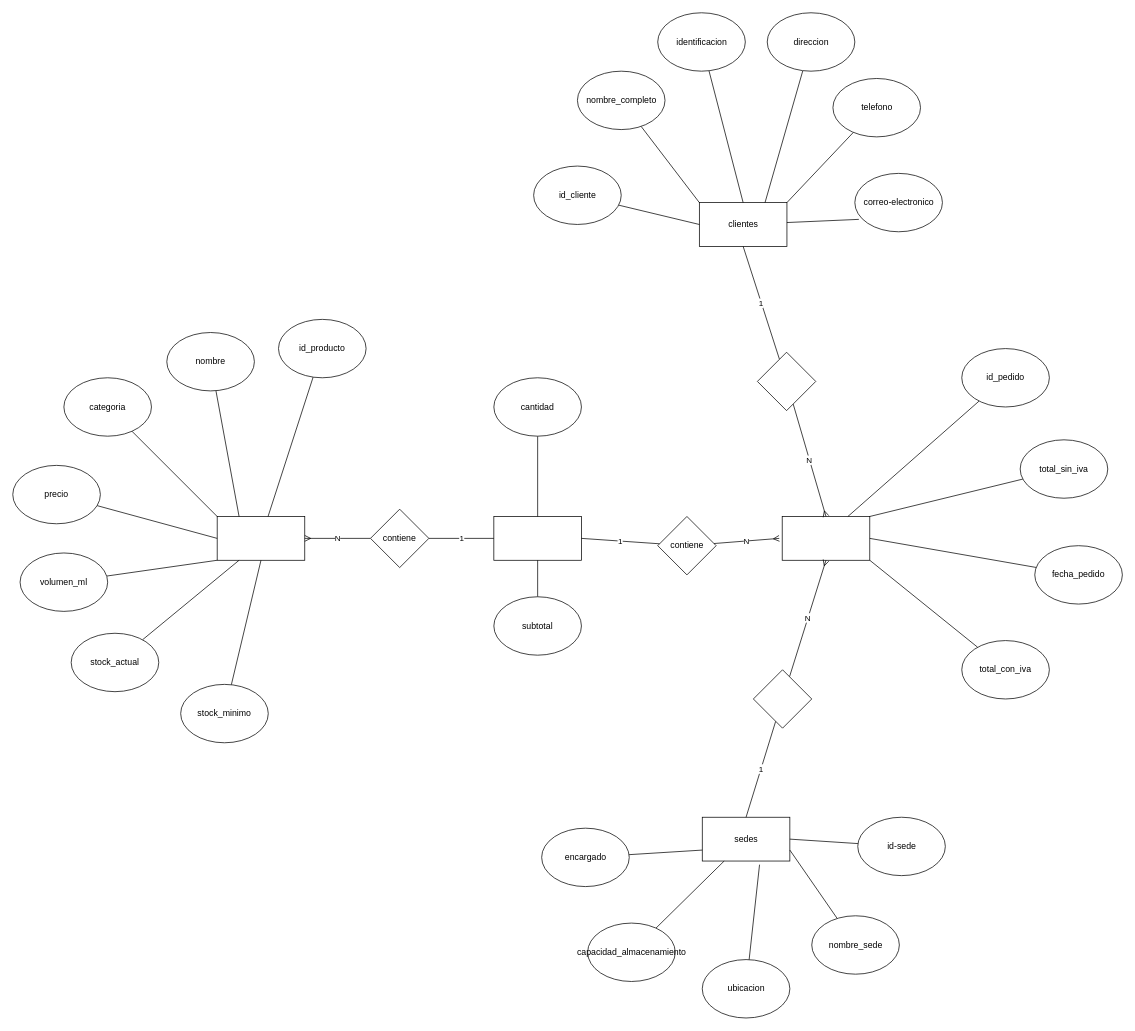
Some shapes in this 1135 by 1031 pixel diagram are drawn without their labels. Here are the shapes that lost their labels. From the top down, the box of each, then its label:
(757, 351, 816, 411): hace
(216, 516, 305, 560): productos
(493, 516, 581, 560): detalle_pedido
(781, 516, 870, 560): pedidos
(753, 669, 812, 728): recibe
